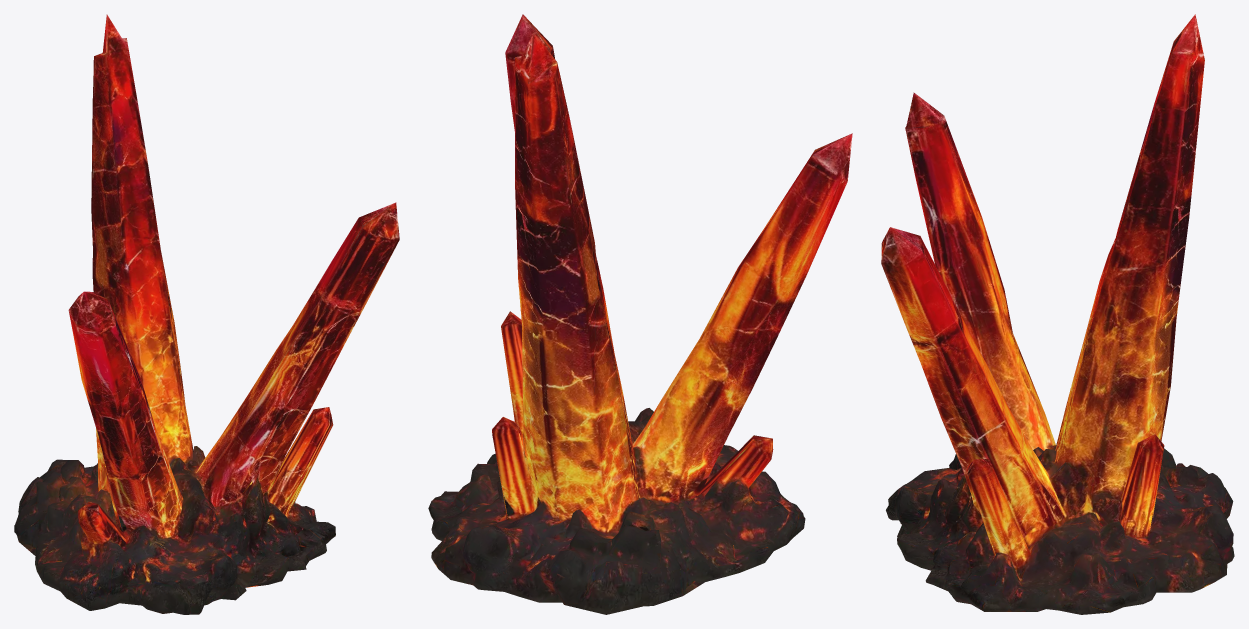
The model's file is crystal-spire-crimson.glb.
The picture shows the model from 3 angles, left to right: view 1: azimuth 30°, elevation 25°; view 2: azimuth 150°, elevation 25°; view 3: azimuth 270°, elevation 25°; orthographic projection. The views are drawn at different scales.
Visible parts, largest first — view 1: Mesh1.0; view 2: Mesh1.0; view 3: Mesh1.0.
Part boxes in pixels (bbox=[...]): Mesh1.0: bbox=[14, 14, 399, 614]; Mesh1.0: bbox=[428, 14, 852, 614]; Mesh1.0: bbox=[881, 14, 1234, 614].
Size of the model in its own units: 1.28 by 1.91 by 1.15.
1 material, 1 textured.
